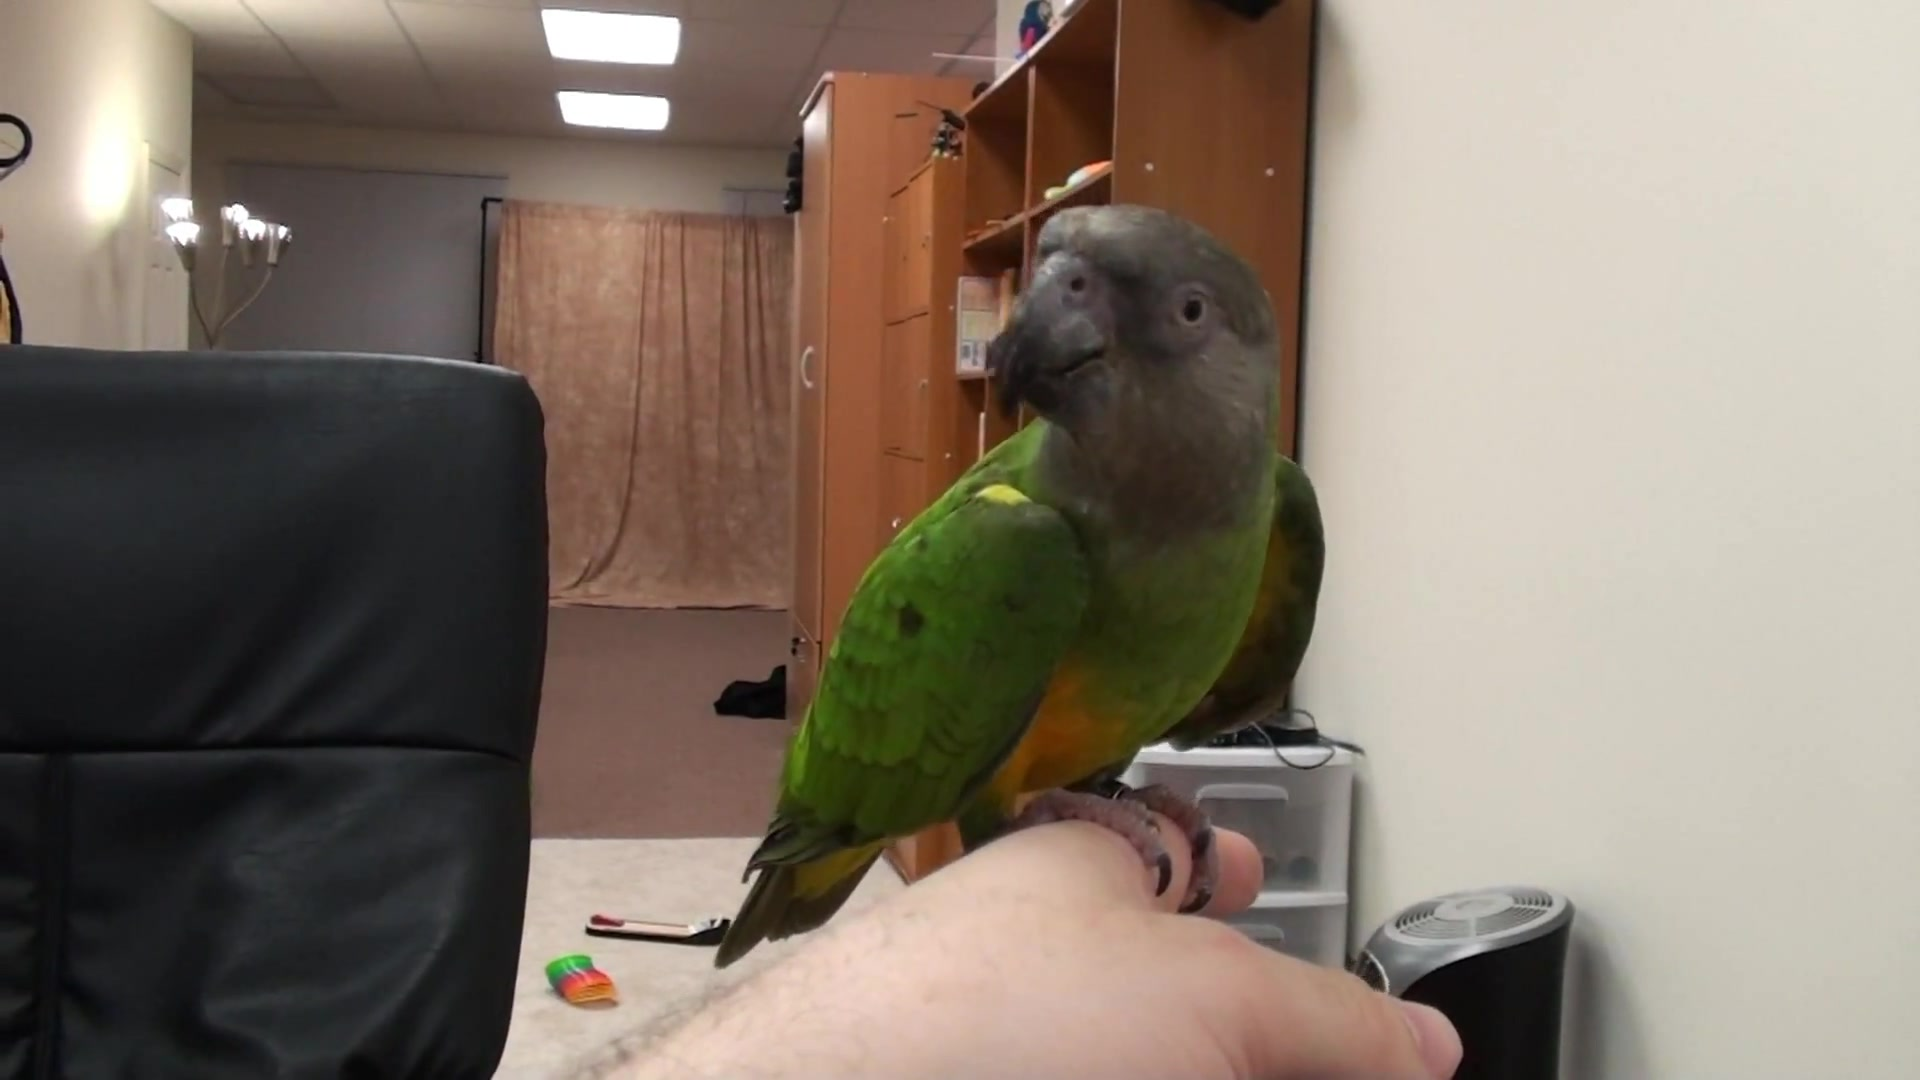bird: (713, 203, 1328, 972)
